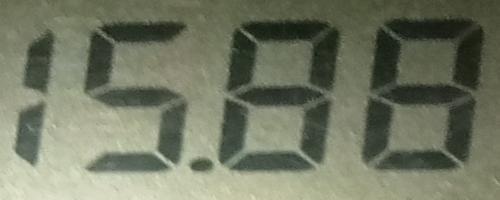.: (187, 156, 218, 177)
